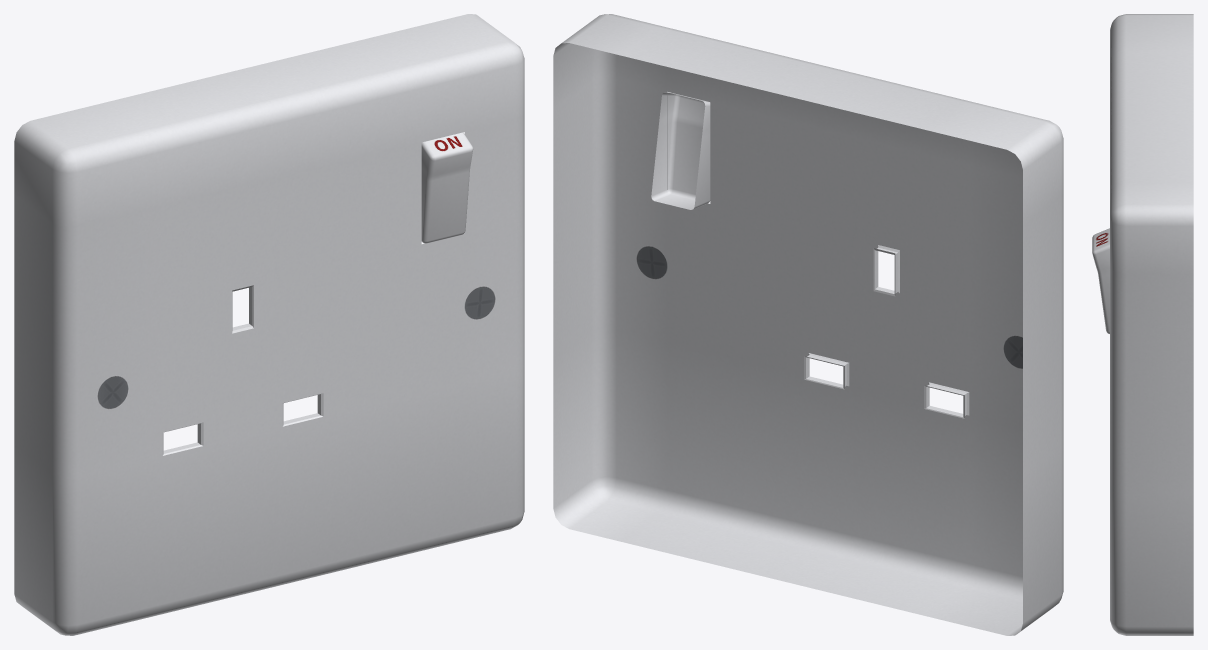
Rendered from single_plug_socket_02.glb.
The picture shows the model from 3 angles, left to right: view 1: azimuth 30°, elevation 25°; view 2: azimuth 150°, elevation 25°; view 3: azimuth 270°, elevation 25°; orthographic projection. The views are drawn at different scales.
Visible parts, largest first — view 1: SM_single_plug, SM_single_plug.001; view 2: SM_single_plug, SM_single_plug.001; view 3: SM_single_plug, SM_single_plug.001.
Boxes of the visible parts, bbox=[...] form: SM_single_plug: bbox=[14, 14, 524, 635]; SM_single_plug.001: bbox=[421, 132, 473, 243]; SM_single_plug: bbox=[553, 14, 1063, 635]; SM_single_plug.001: bbox=[651, 92, 710, 209]; SM_single_plug: bbox=[1110, 14, 1193, 635]; SM_single_plug.001: bbox=[1092, 228, 1109, 333].
Size of the model in its own units: 8.7 by 8.6 by 1.83.
1 material, 1 textured.
